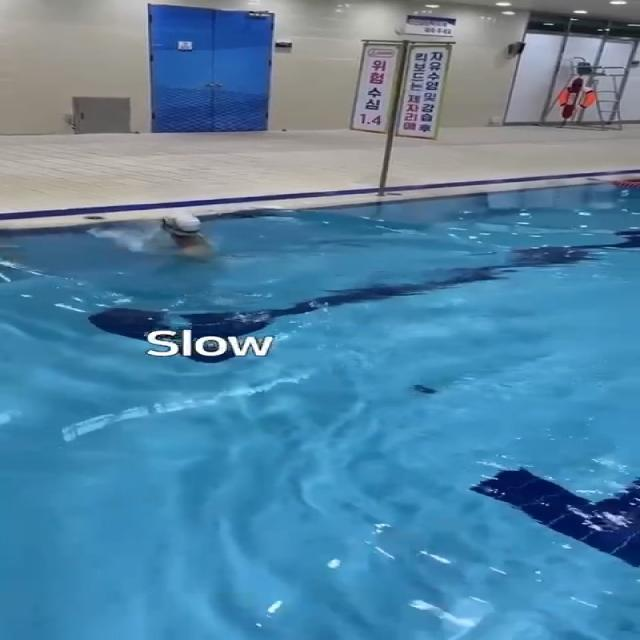Swimming: (88, 210, 282, 280)
